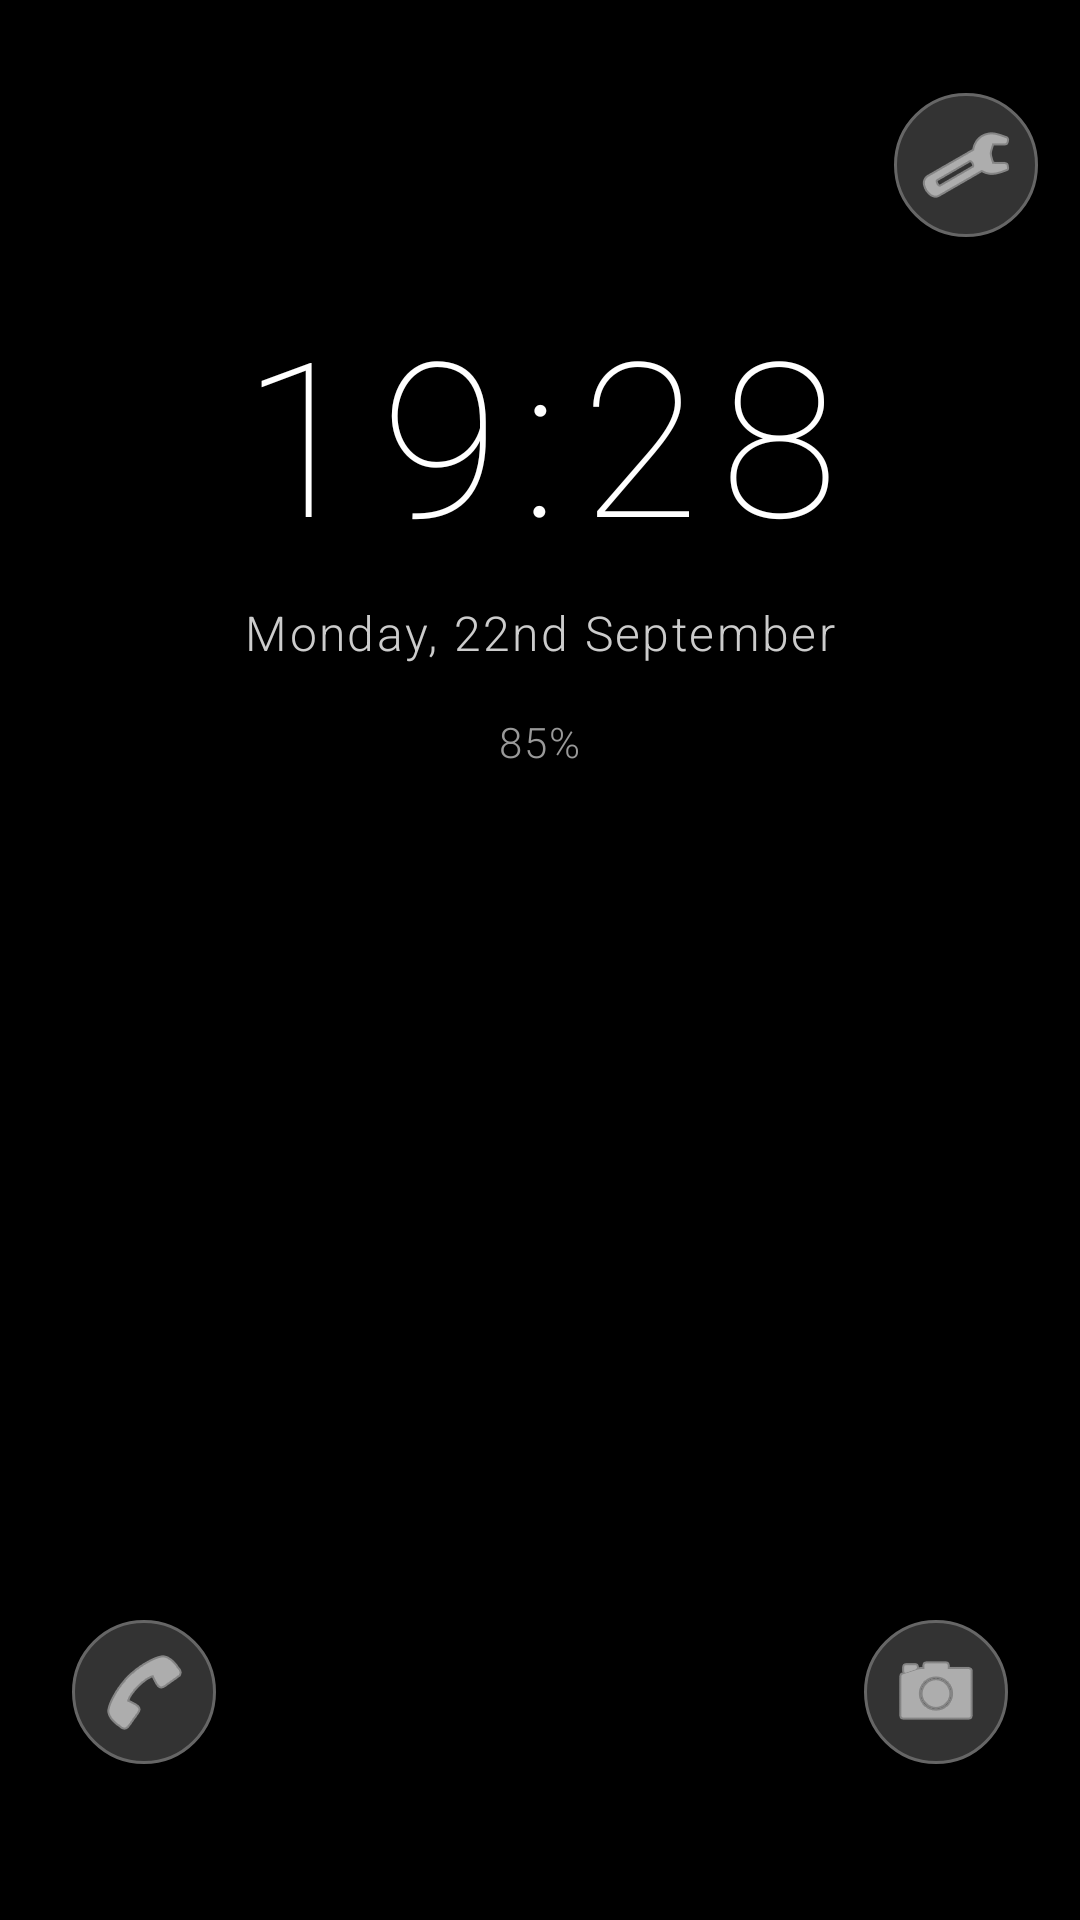

Where icons sit on this 1080px x 1920px app screen, as BBox(x1, y1, x2, y2):
Call: BBox(72, 1620, 216, 1764)
Camera: BBox(864, 1620, 1008, 1764)
